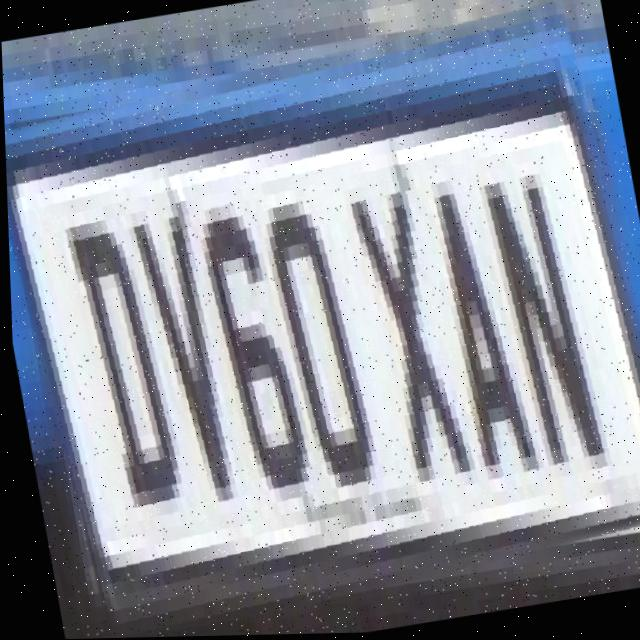LicensePlate: (0, 6, 640, 640)
